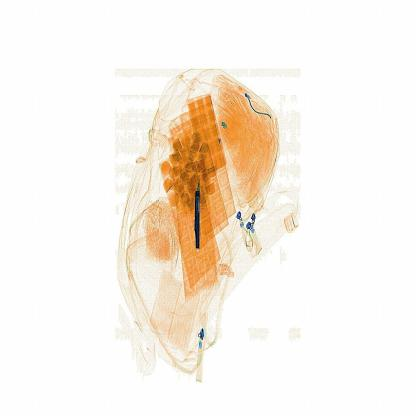pliers: (190, 178, 206, 258)
